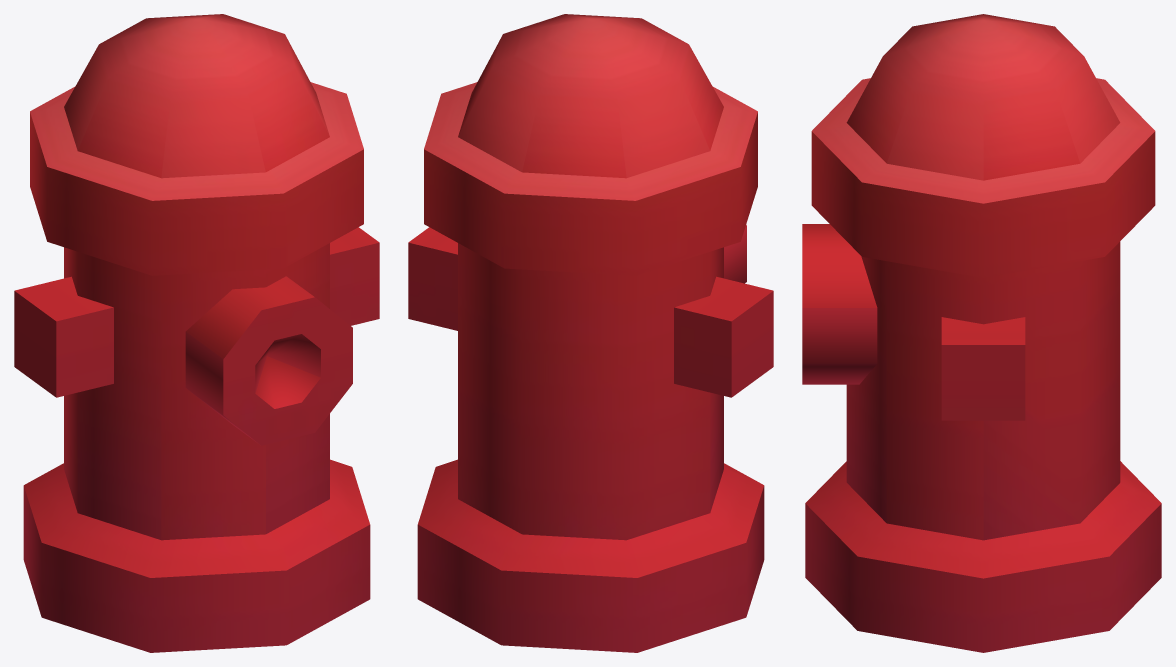
The model's file is kk-firehydrant.glb.
3 views of the same model, side by side, from view 1: azimuth 30°, elevation 25°; view 2: azimuth 150°, elevation 25°; view 3: azimuth 270°, elevation 25° (orthographic).
Visible parts, largest first — view 1: firehydrant; view 2: firehydrant; view 3: firehydrant.
Boxes of the visible parts, x1,y1,x2,y2 form: firehydrant: (14,14,379,652); firehydrant: (408,14,773,652); firehydrant: (802,14,1161,652).
Bounding box in the file's own units: 0.1355 × 0.2246 × 0.1313.
1 material, 1 textured.
